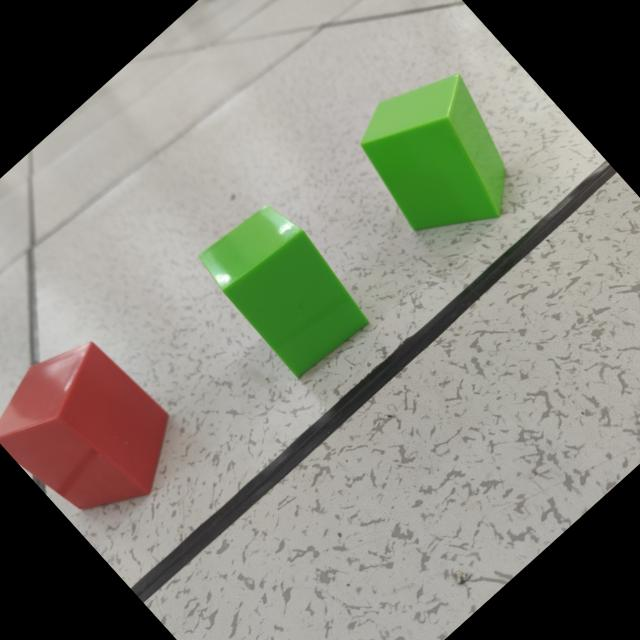green: (200, 206, 370, 379), (361, 74, 508, 234)
red: (0, 340, 171, 511)
